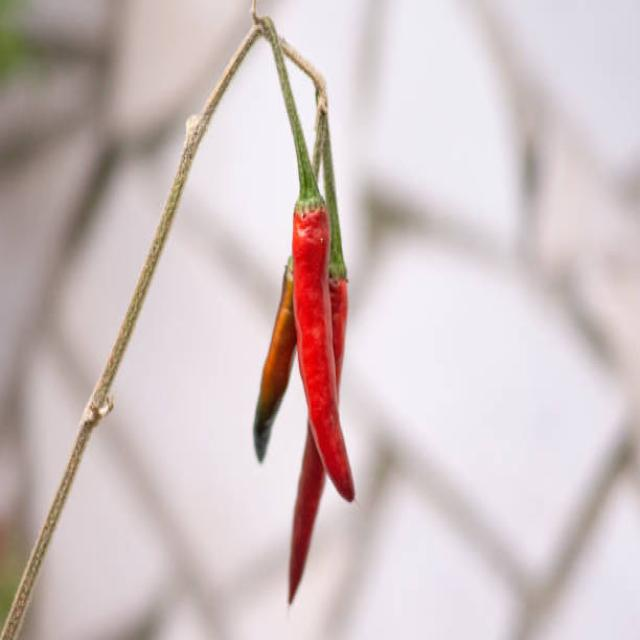Ripe: (291, 201, 355, 505)
